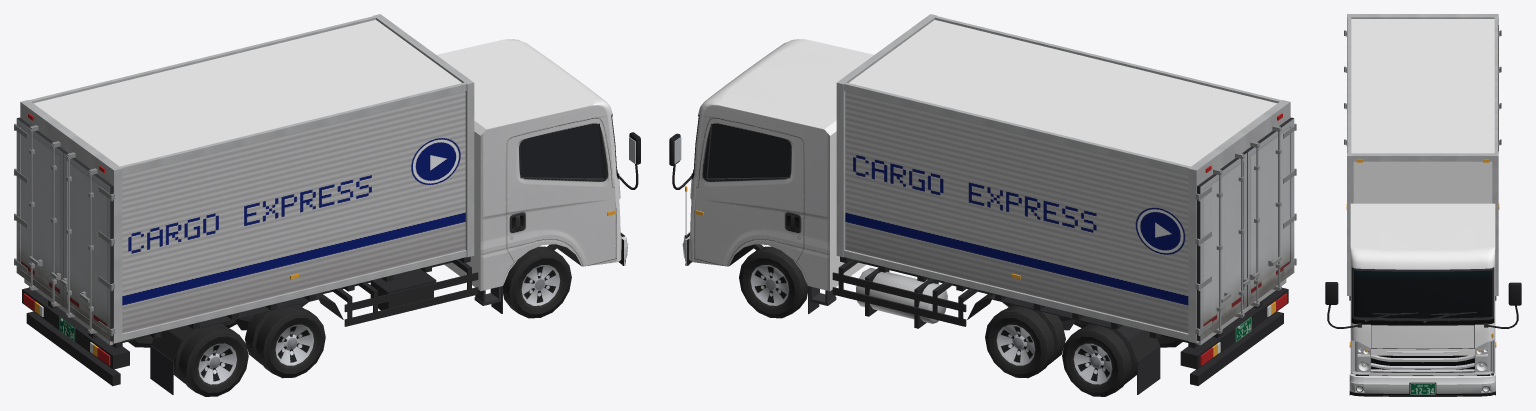
File: delivery-truck.glb
3 renders of one model, left to right at view 1: azimuth 30°, elevation 25°; view 2: azimuth 150°, elevation 25°; view 3: azimuth 270°, elevation 25°, orthographic. The views are drawn at different scales.
Visible parts, largest first — view 1: Cargo_Body, Cab, Rear_Door_Right, Rear_Door_Left, Wheel_R2R_Outer, Wheel_R1R_Outer, Wheel_FR, Chassis_RearBars, Chassis_SideGuards, Rear_Mudguards, Rear_Door_Right_Hardware, Rear_Door_Left_Hardware (+3 smaller); view 2: Cargo_Body, Cab, Rear_Door_Left, Rear_Door_Right, Wheel_R2L_Outer, Wheel_R1L_Outer, Wheel_FL, Chassis_RearBars, Chassis_SideGuards, Rear_Mudguards, Chassis_FuelTank, Rear_Door_Right_Hardware (+4 smaller); view 3: Cargo_Body, Cab, Cab_Bumper, Cab_Grille, Cab_Headlamps, Mirror_L, Cab_Wipers, Mirror_R, Front_NumberPlate, Cab_Garnish.
Boxes of the visible parts, <box> form: Cargo_Body: <box>20,14,474,345</box>; Cab: <box>437,39,621,291</box>; Rear_Door_Right: <box>63,152,113,341</box>; Rear_Door_Left: <box>16,117,66,306</box>; Wheel_R2R_Outer: <box>178,325,248,396</box>; Wheel_R1R_Outer: <box>255,306,325,378</box>; Wheel_FR: <box>503,246,571,318</box>; Chassis_RearBars: <box>22,287,129,386</box>; Chassis_SideGuards: <box>331,259,478,326</box>; Rear_Mudguards: <box>150,292,343,394</box>; Rear_Door_Right_Hardware: <box>61,155,112,335</box>; Rear_Door_Left_Hardware: <box>14,123,60,305</box>; Cargo_Body: <box>836,14,1290,345</box>; Cab: <box>688,39,873,291</box>; Rear_Door_Left: <box>1197,152,1246,341</box>; Rear_Door_Right: <box>1244,117,1294,306</box>; Wheel_R2L_Outer: <box>1062,325,1131,396</box>; Wheel_R1L_Outer: <box>985,306,1054,378</box>; Wheel_FL: <box>739,246,807,318</box>; Chassis_RearBars: <box>1180,287,1288,385</box>; Chassis_SideGuards: <box>832,259,979,326</box>; Rear_Mudguards: <box>967,293,1160,394</box>; Chassis_FuelTank: <box>856,268,947,323</box>; Rear_Door_Right_Hardware: <box>1249,123,1296,305</box>; Cargo_Body: <box>1347,14,1498,295</box>; Cab: <box>1350,203,1495,375</box>; Cab_Bumper: <box>1349,374,1495,396</box>; Cab_Grille: <box>1370,355,1474,372</box>; Cab_Headlamps: <box>1357,348,1487,370</box>; Mirror_L: <box>1508,282,1521,305</box>; Cab_Wipers: <box>1364,312,1476,322</box>; Mirror_R: <box>1325,282,1338,304</box>; Front_NumberPlate: <box>1410,383,1435,394</box>; Cab_Garnish: <box>1387,351,1458,353</box>.
Bounding box in the file's own units: 6.44 × 2.96 × 2.55.
Materials: 32 (16 with a texture image).
